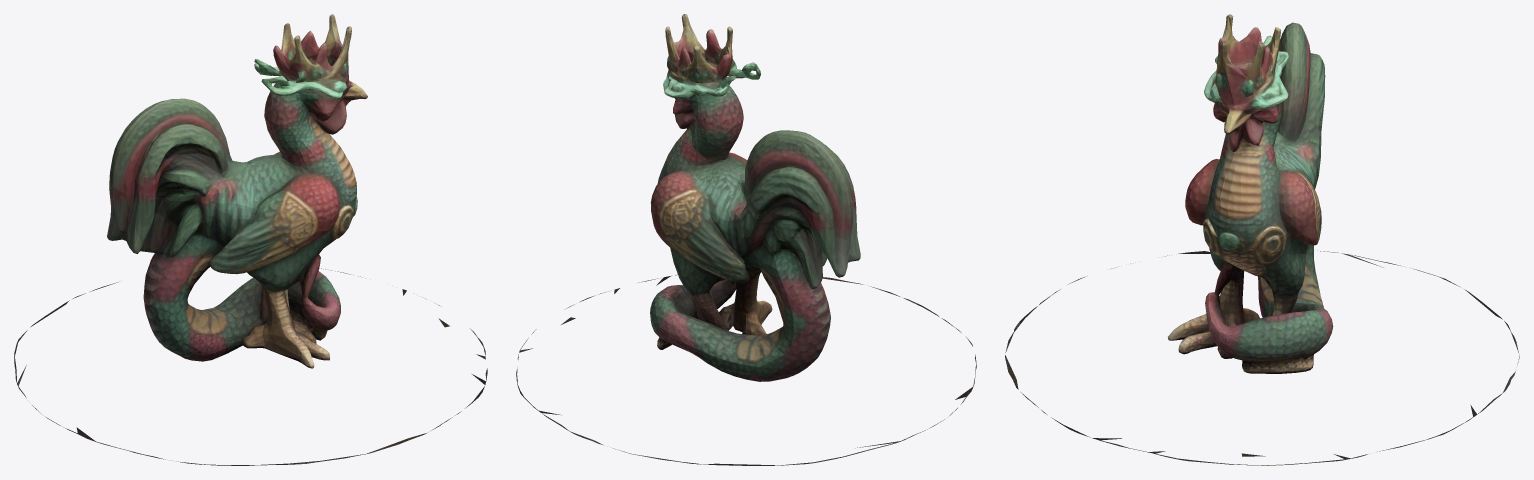
Rendered from stillgaze__basiliskCrowned.glb.
3 views of the same model, side by side, from view 1: azimuth 30°, elevation 25°; view 2: azimuth 150°, elevation 25°; view 3: azimuth 270°, elevation 25° (orthographic). The views are drawn at different scales.
Visible parts, largest first — view 1: world; view 2: world; view 3: world.
Boxes of the visible parts, <box> form: world: <box>14,14,487,465</box>; world: <box>516,14,976,465</box>; world: <box>1005,14,1519,465</box>.
Bounding box in the file's own units: 1 × 0.7729 × 1.
1 material, 1 textured.
